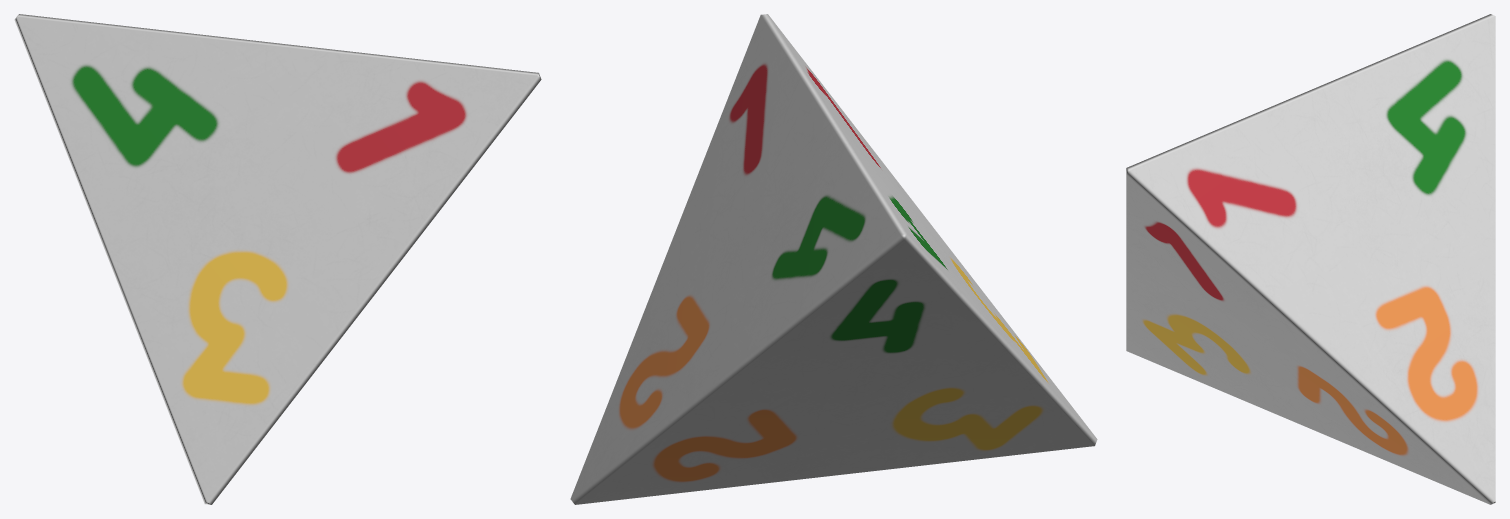
File: d4_rainbow.glb
The picture shows the model from 3 angles, left to right: view 1: azimuth 30°, elevation 25°; view 2: azimuth 150°, elevation 25°; view 3: azimuth 270°, elevation 25°; orthographic projection. The views are drawn at different scales.
Visible parts, largest first — view 1: Mesh_0; view 2: Mesh_0; view 3: Mesh_0.
Boxes of the visible parts, x1=… form: Mesh_0: x1=14, y1=14, x2=541, y2=504; Mesh_0: x1=570, y1=14, x2=1097, y2=504; Mesh_0: x1=1126, y1=14, x2=1495, y2=504.
Size of the model in its own units: 135 by 135 by 135.
1 material, 1 textured.
